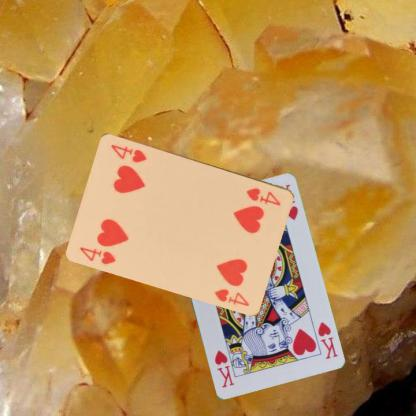4h: (77, 244, 118, 266), (244, 185, 282, 207)
Kh: (315, 319, 338, 360)
